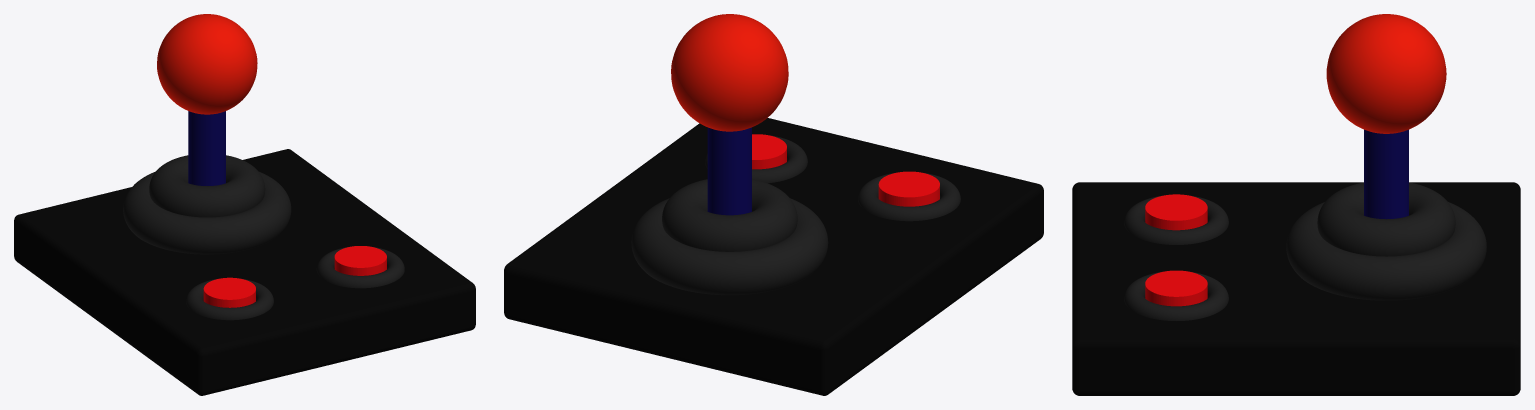
The model's file is Game-controller.fbx.
The picture shows the model from 3 angles, left to right: view 1: azimuth 30°, elevation 25°; view 2: azimuth 150°, elevation 25°; view 3: azimuth 270°, elevation 25°; orthographic projection. The views are drawn at different scales.
Visible parts, largest first — view 1: Base, Sphere, Torus.002, Torus.001, Cylinder, Torus.003, Torus.004, Cylinder.001, Cylinder.002; view 2: Base, Sphere, Torus.002, Torus.001, Cylinder, Torus.004, Cylinder.002, Torus.003, Cylinder.001; view 3: Base, Sphere, Torus.002, Torus.001, Cylinder, Torus.004, Torus.003, Cylinder.002, Cylinder.001.
Boxes of the visible parts, x1,y1,x2,y2 form: Base: (14,149,475,395); Sphere: (157,14,257,114); Torus.002: (123,171,291,254); Torus.001: (149,155,265,217); Cylinder: (188,111,225,185); Torus.003: (316,246,404,288); Torus.004: (186,278,273,320); Cylinder.001: (334,246,386,275); Cylinder.002: (203,277,255,307); Base: (504,118,1043,395); Sphere: (671,14,788,131); Torus.002: (631,198,828,295); Torus.001: (662,179,797,251); Cylinder: (707,127,751,215); Torus.004: (858,172,960,221); Cylinder.002: (878,171,939,206); Torus.003: (705,135,807,183); Cylinder.001: (752,134,786,169); Base: (1072,182,1520,395); Sphere: (1326,14,1446,133); Torus.002: (1286,202,1486,300); Torus.001: (1317,182,1455,256); Cylinder: (1364,129,1408,219); Torus.004: (1124,195,1228,244); Torus.003: (1124,271,1228,320); Cylinder.002: (1145,194,1207,230); Cylinder.001: (1145,270,1207,306).
Size of the model in its own units: 128 by 149 by 109.
